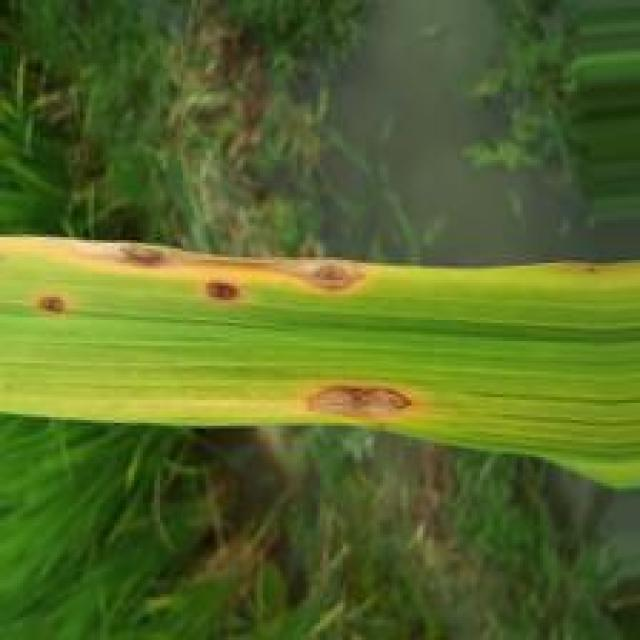Narrow_Brown_Leaf_Spot: (0, 234, 387, 312), (173, 370, 449, 432), (28, 293, 76, 318)
